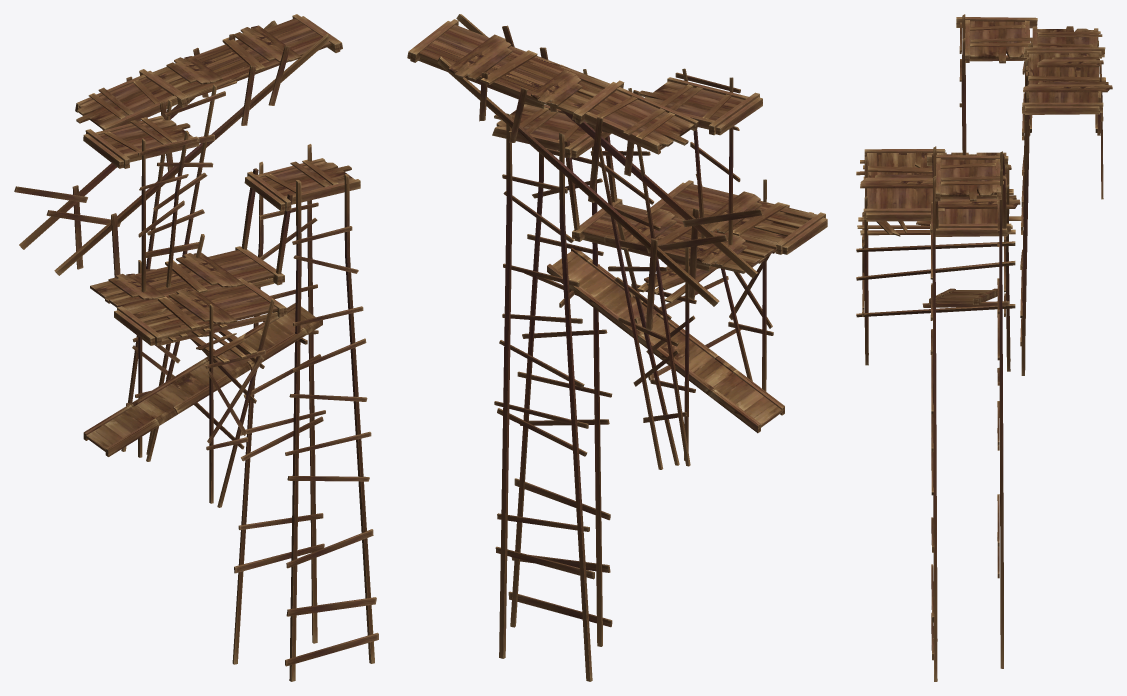
File: q01c_building_005.FBX
3 views of the same model, side by side, from view 1: azimuth 30°, elevation 25°; view 2: azimuth 150°, elevation 25°; view 3: azimuth 270°, elevation 25° (orthographic). The views are drawn at different scales.
Visible parts, largest first — view 1: q01c_building_05; view 2: q01c_building_05; view 3: q01c_building_05.
Boxes of the visible parts, x1,y1,x2,y2 form: q01c_building_05: (14,14,378,681); q01c_building_05: (407,14,827,681); q01c_building_05: (856,14,1112,681).
Bounding box in the file's own units: 1206 × 2341 × 921.
